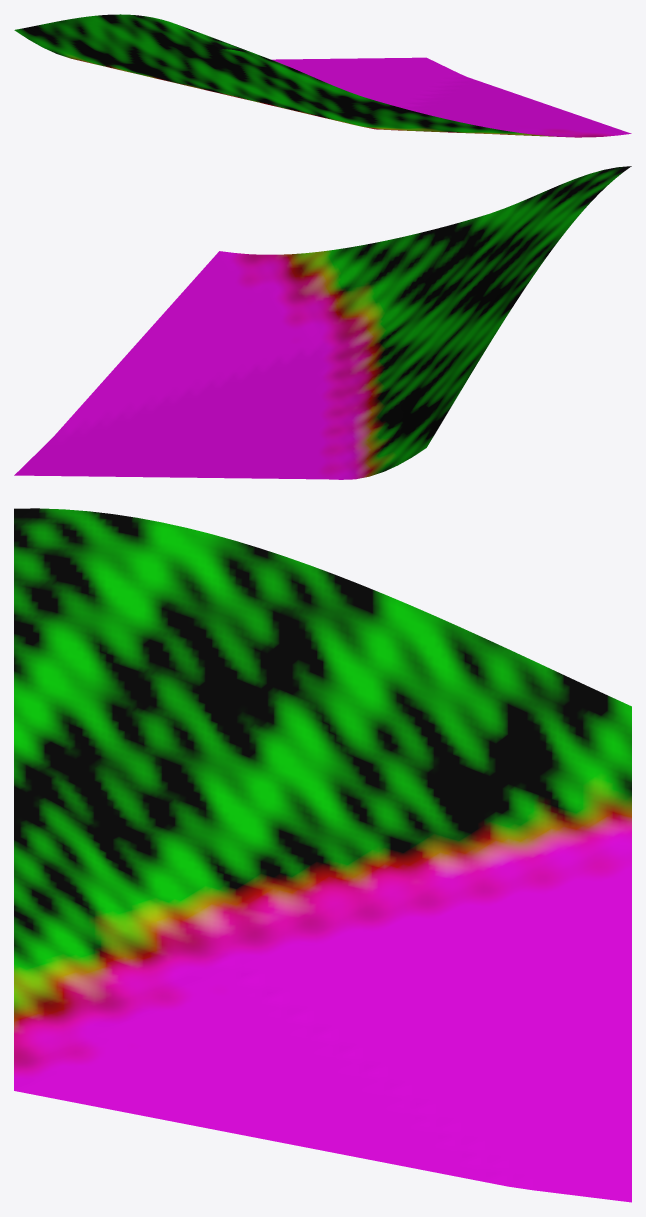
Rendered from P2N_shore_ground_overlay.glb.
3 views of the same model, one above another, from view 1: azimuth 30°, elevation 25°; view 2: azimuth 150°, elevation 25°; view 3: azimuth 270°, elevation 25° (orthographic). The views are drawn at different scales.
Visible parts, largest first — view 1: P2N_shore_ground_overlay; view 2: P2N_shore_ground_overlay; view 3: P2N_shore_ground_overlay.
Part boxes in pixels (bbox=[...]): P2N_shore_ground_overlay: bbox=[14, 14, 631, 137]; P2N_shore_ground_overlay: bbox=[14, 166, 631, 479]; P2N_shore_ground_overlay: bbox=[14, 508, 631, 1202].
Bounding box in the file's own units: 58 × 34.92 × 50.
